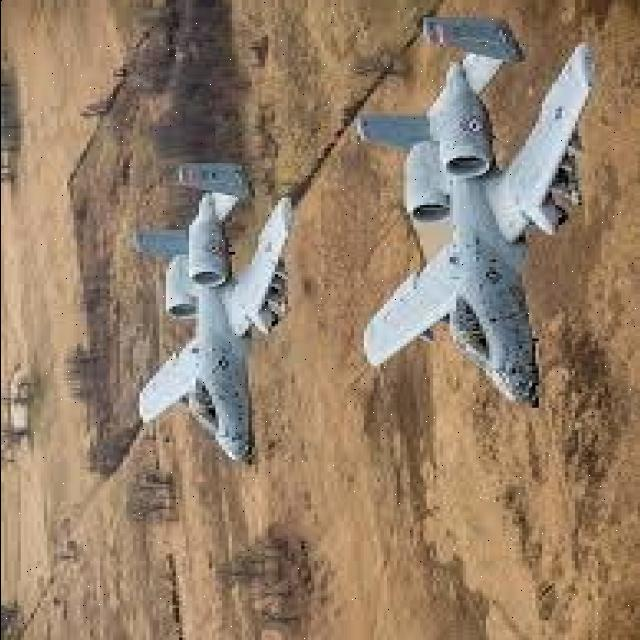A10: (342, 12, 624, 409), (63, 146, 314, 478)
